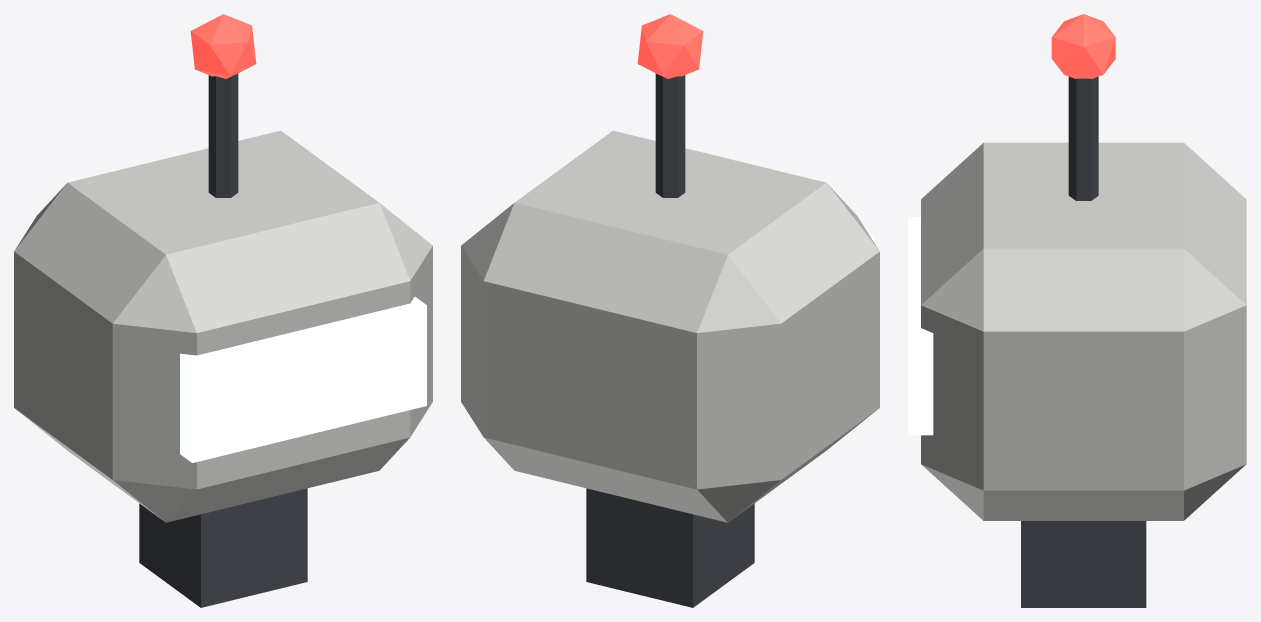
The model's file is prop_selfservice_p1.glb.
3 views of the same model, side by side, from view 1: azimuth 30°, elevation 25°; view 2: azimuth 150°, elevation 25°; view 3: azimuth 270°, elevation 25° (orthographic).
Parts seen in each view (by area): view 1: prop_selfservice_p1_mesh; view 2: prop_selfservice_p1_mesh; view 3: prop_selfservice_p1_mesh.
Part boxes in pixels (bbox=[...]): prop_selfservice_p1_mesh: bbox=[14, 14, 432, 607]; prop_selfservice_p1_mesh: bbox=[461, 14, 879, 607]; prop_selfservice_p1_mesh: bbox=[908, 14, 1246, 607].
Size of the model in its own units: 0.15 by 0.25 by 0.135.
